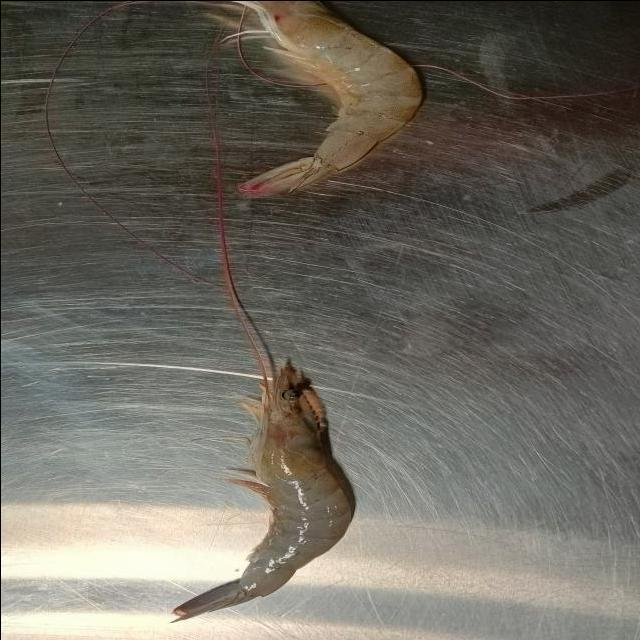shrimp: (168, 364, 358, 622), (232, 0, 423, 199)
